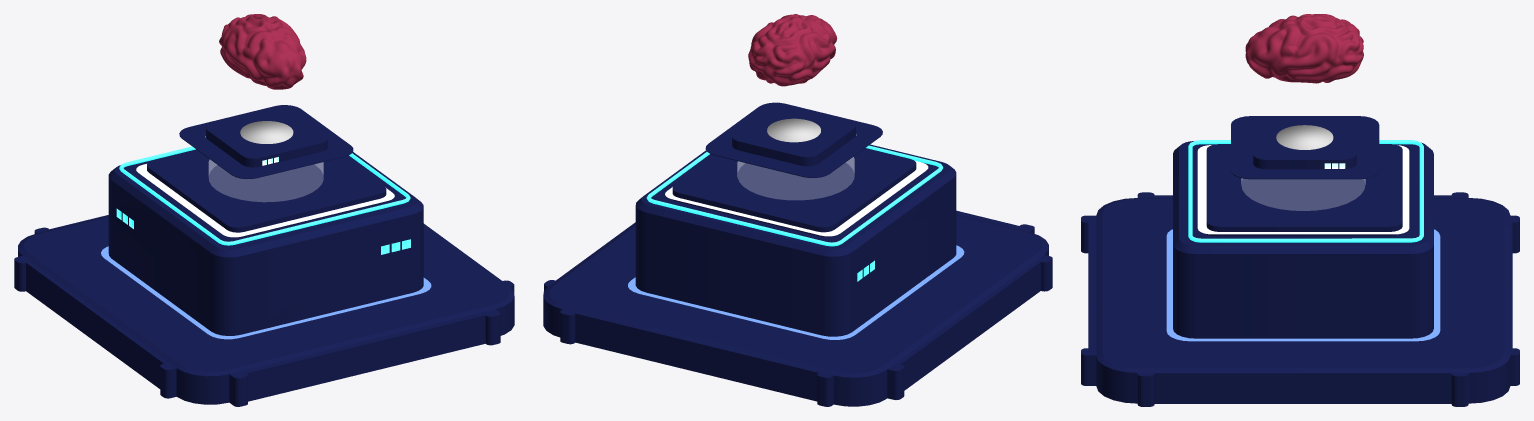
The model's file is The_mystery_cityblend43.glb.
3 views of the same model, side by side, from view 1: azimuth 30°, elevation 25°; view 2: azimuth 150°, elevation 25°; view 3: azimuth 270°, elevation 25° (orthographic). The views are drawn at different scales.
Parts seen in each view (by area): view 1: Main_platform.001, Main_platform, Main_platform.005, Cube.001, Cube.003, Brain, Plane.004, Suppourt, Main_platform.002, Plane.002, Main_platform.007, Main_platform.008 (+1 smaller); view 2: Main_platform.001, Main_platform, Main_platform.005, Cube.002, Cube.003, Brain, Plane.004, Suppourt, Main_platform.002, Plane.002, Main_platform.008, Main_platform.007 (+1 smaller); view 3: Main_platform, Main_platform.001, Main_platform.005, Cube.004, Brain, Plane.004, Suppourt, Main_platform.002, Main_platform.008, Plane.002, Main_platform.007, Cube.001 (+2 smaller).
Boxes of the visible parts, x1=… form: Main_platform.001: x1=108, y1=149, x2=423, y2=335; Main_platform: x1=18, y1=216, x2=514, y2=404; Main_platform.005: x1=147, y1=150, x2=386, y2=237; Cube.001: x1=229, y1=309, x2=500, y2=406; Cube.003: x1=14, y1=256, x2=176, y2=398; Brain: x1=219, y1=14, x2=306, y2=89; Plane.004: x1=206, y1=107, x2=327, y2=167; Suppourt: x1=179, y1=105, x2=353, y2=179; Main_platform.002: x1=209, y1=160, x2=323, y2=201; Plane.002: x1=119, y1=146, x2=410, y2=245; Main_platform.007: x1=136, y1=164, x2=394, y2=237; Main_platform.008: x1=101, y1=246, x2=431, y2=339; Main_platform.001: x1=635, y1=144, x2=956, y2=336; Main_platform: x1=543, y1=214, x2=1048, y2=406; Main_platform.005: x1=672, y1=148, x2=916, y2=236; Cube.002: x1=560, y1=309, x2=833, y2=406; Cube.003: x1=887, y1=255, x2=1052, y2=399; Brain: x1=748, y1=14, x2=837, y2=86; Plane.004: x1=732, y1=104, x2=855, y2=166; Suppourt: x1=705, y1=102, x2=882, y2=177; Main_platform.002: x1=737, y1=157, x2=854, y2=199; Plane.002: x1=646, y1=145, x2=943, y2=246; Main_platform.008: x1=628, y1=245, x2=964, y2=339; Main_platform.007: x1=665, y1=161, x2=928, y2=236; Main_platform: x1=1096, y1=198, x2=1510, y2=403; Main_platform.001: x1=1173, y1=141, x2=1433, y2=338; Main_platform.005: x1=1206, y1=144, x2=1402, y2=236; Cube.004: x1=1137, y1=373, x2=1468, y2=406; Brain: x1=1245, y1=14, x2=1363, y2=83; Plane.004: x1=1253, y1=116, x2=1356, y2=169; Suppourt: x1=1231, y1=116, x2=1379, y2=179; Main_platform.002: x1=1241, y1=178, x2=1365, y2=210; Main_platform.008: x1=1166, y1=229, x2=1440, y2=341; Plane.002: x1=1188, y1=140, x2=1423, y2=242; Main_platform.007: x1=1197, y1=145, x2=1409, y2=234; Cube.001: x1=1081, y1=215, x2=1096, y2=385.
Bounding box in the file's own units: 8.3 × 6.3 × 8.37.
